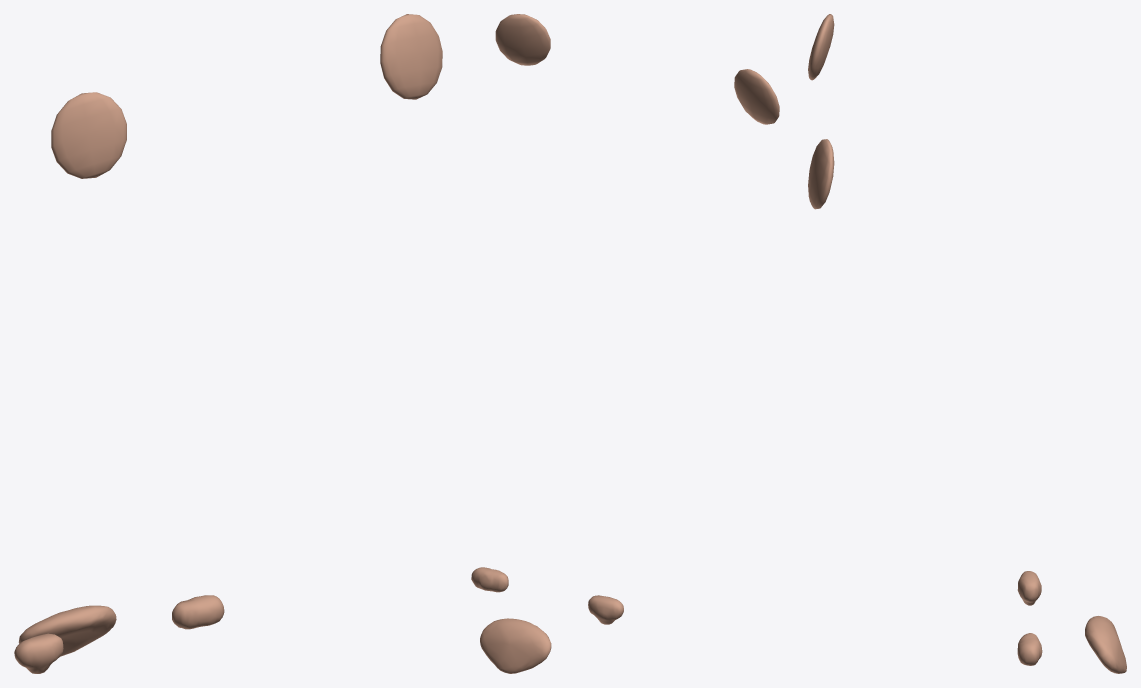
Rendered from pediatric_infant_female.reproductive.LOD0.glb.
The picture shows the model from 3 angles, left to right: view 1: azimuth 30°, elevation 25°; view 2: azimuth 150°, elevation 25°; view 3: azimuth 270°, elevation 25°; orthographic projection. The views are drawn at different scales.
Visible parts, largest first — view 1: PEDIATRIC.INFANT.FEMALE.REPRODUCTIVE.BREAST_ADIPOSE_TISSUE.R, PEDIATRIC.INFANT.FEMALE.REPRODUCTIVE.BREAST_ADIPOSE_TISSUE.L, PEDIATRIC.INFANT.FEMALE.REPRODUCTIVE.UTERUS, PEDIATRIC.INFANT.FEMALE.REPRODUCTIVE.OVARY.R, PEDIATRIC.INFANT.FEMALE.REPRODUCTIVE.OVARY.L; view 2: PEDIATRIC.INFANT.FEMALE.REPRODUCTIVE.UTERUS, PEDIATRIC.INFANT.FEMALE.REPRODUCTIVE.BREAST_ADIPOSE_TISSUE.L, PEDIATRIC.INFANT.FEMALE.REPRODUCTIVE.BREAST_ADIPOSE_TISSUE.R, PEDIATRIC.INFANT.FEMALE.REPRODUCTIVE.OVARY.R, PEDIATRIC.INFANT.FEMALE.REPRODUCTIVE.OVARY.L; view 3: PEDIATRIC.INFANT.FEMALE.REPRODUCTIVE.UTERUS, PEDIATRIC.INFANT.FEMALE.REPRODUCTIVE.BREAST_ADIPOSE_TISSUE.L, PEDIATRIC.INFANT.FEMALE.REPRODUCTIVE.BREAST_ADIPOSE_TISSUE.R, PEDIATRIC.INFANT.FEMALE.REPRODUCTIVE.OVARY.L, PEDIATRIC.INFANT.FEMALE.REPRODUCTIVE.OVARY.R.
Boxes of the visible parts, left/top/right/bottom form: PEDIATRIC.INFANT.FEMALE.REPRODUCTIVE.BREAST_ADIPOSE_TISSUE.R: left=51, top=92, right=126, bottom=178; PEDIATRIC.INFANT.FEMALE.REPRODUCTIVE.BREAST_ADIPOSE_TISSUE.L: left=380, top=14, right=442, bottom=99; PEDIATRIC.INFANT.FEMALE.REPRODUCTIVE.UTERUS: left=18, top=605, right=116, bottom=656; PEDIATRIC.INFANT.FEMALE.REPRODUCTIVE.OVARY.R: left=14, top=633, right=63, bottom=673; PEDIATRIC.INFANT.FEMALE.REPRODUCTIVE.OVARY.L: left=172, top=595, right=224, bottom=629; PEDIATRIC.INFANT.FEMALE.REPRODUCTIVE.UTERUS: left=480, top=618, right=551, bottom=673; PEDIATRIC.INFANT.FEMALE.REPRODUCTIVE.BREAST_ADIPOSE_TISSUE.L: left=495, top=14, right=550, bottom=65; PEDIATRIC.INFANT.FEMALE.REPRODUCTIVE.BREAST_ADIPOSE_TISSUE.R: left=734, top=69, right=779, bottom=124; PEDIATRIC.INFANT.FEMALE.REPRODUCTIVE.OVARY.R: left=588, top=595, right=623, bottom=624; PEDIATRIC.INFANT.FEMALE.REPRODUCTIVE.OVARY.L: left=471, top=567, right=508, bottom=592; PEDIATRIC.INFANT.FEMALE.REPRODUCTIVE.UTERUS: left=1085, top=616, right=1126, bottom=673; PEDIATRIC.INFANT.FEMALE.REPRODUCTIVE.BREAST_ADIPOSE_TISSUE.L: left=808, top=139, right=834, bottom=209; PEDIATRIC.INFANT.FEMALE.REPRODUCTIVE.BREAST_ADIPOSE_TISSUE.R: left=808, top=14, right=834, bottom=80; PEDIATRIC.INFANT.FEMALE.REPRODUCTIVE.OVARY.L: left=1017, top=633, right=1042, bottom=665; PEDIATRIC.INFANT.FEMALE.REPRODUCTIVE.OVARY.R: left=1017, top=571, right=1041, bottom=605.
Size of the model in its own units: 0.1074 by 0.193 by 0.094.
